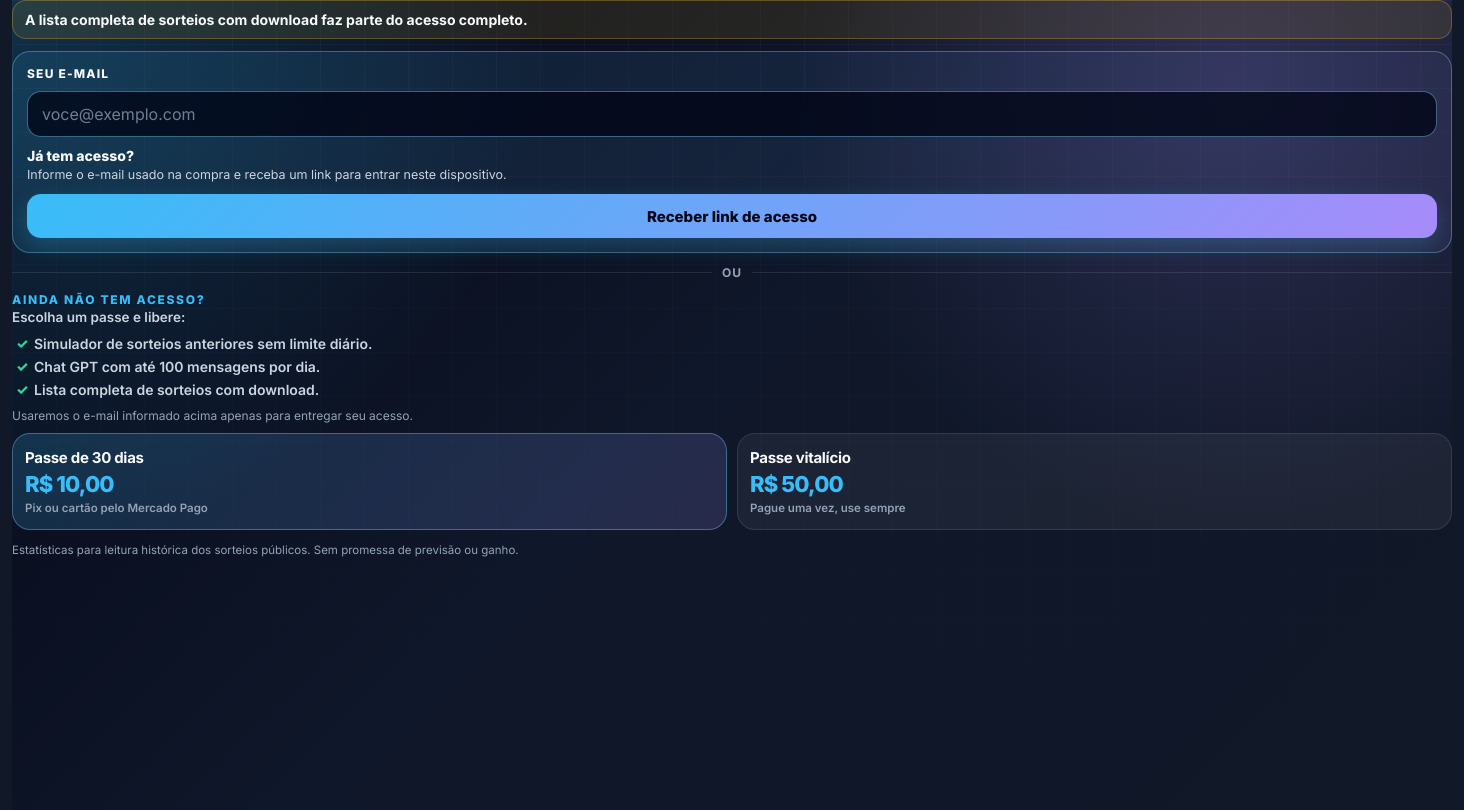
Test: PaywallDialog › requires an e-mail before starting a checkout and sends the user back to the field
Click the button "Passe de 30 dias R$ 10,00 Pix ou cartão pelo Mercado Pago".
click(84, 458)  # box [12,433,727,530]
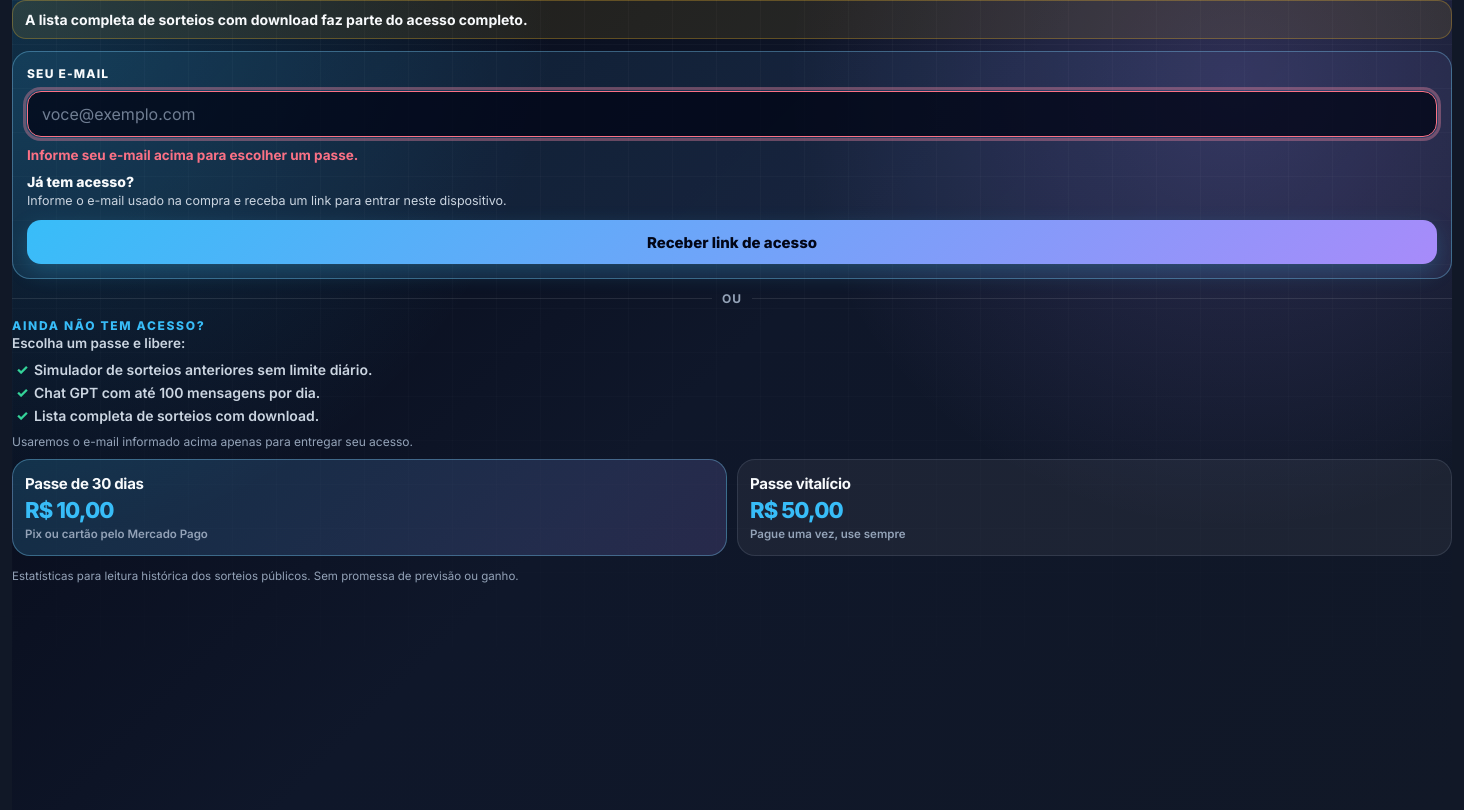
Result: the message shows "Informe seu e-mail acima" at [27,147,358,163]
Type "b" into the field labelled "Seu e-mail".
click(732, 114); type("b")  # box [27,91,1437,137]
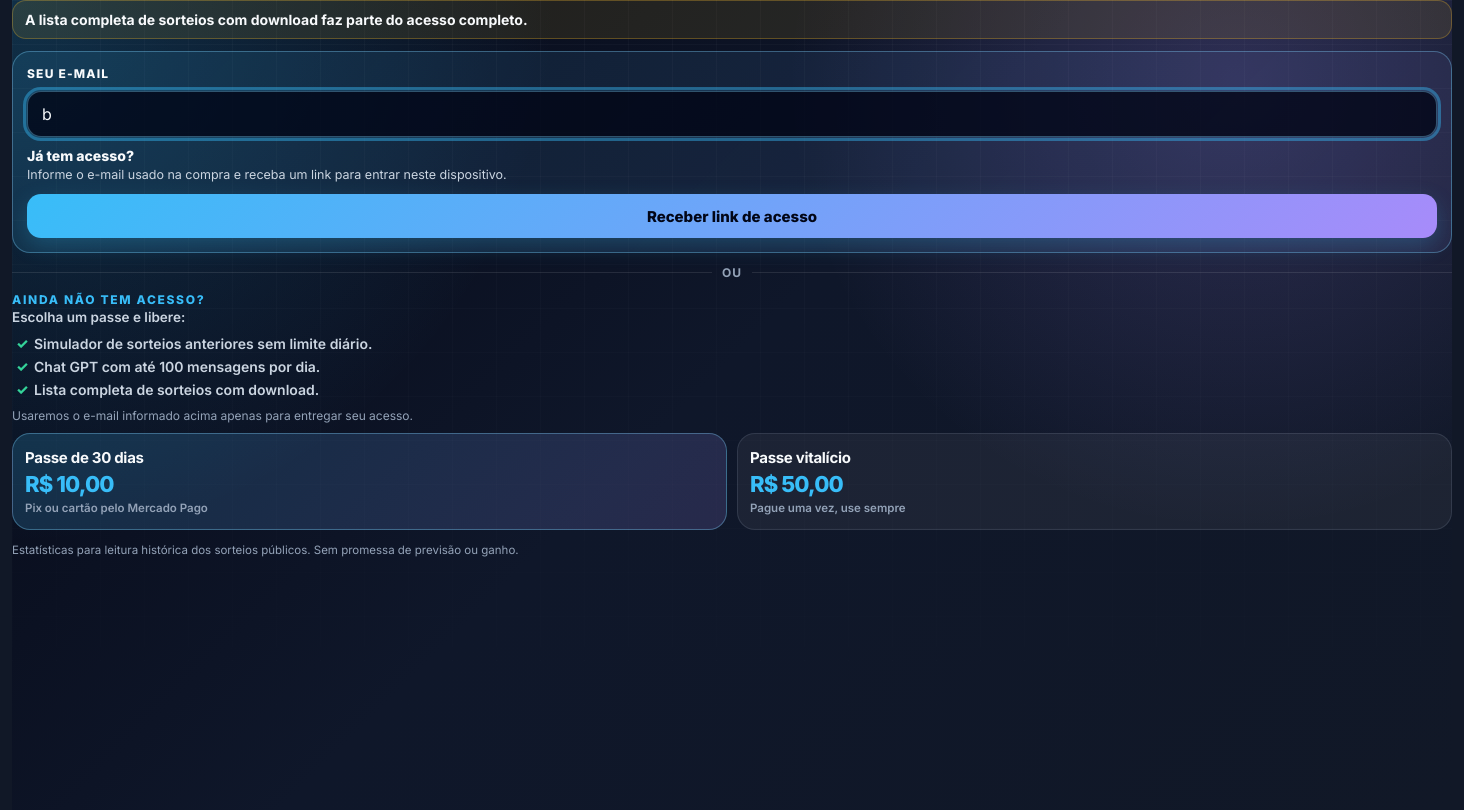
Result: the message "Informe seu e-mail acima para escolher um passe." is gone
